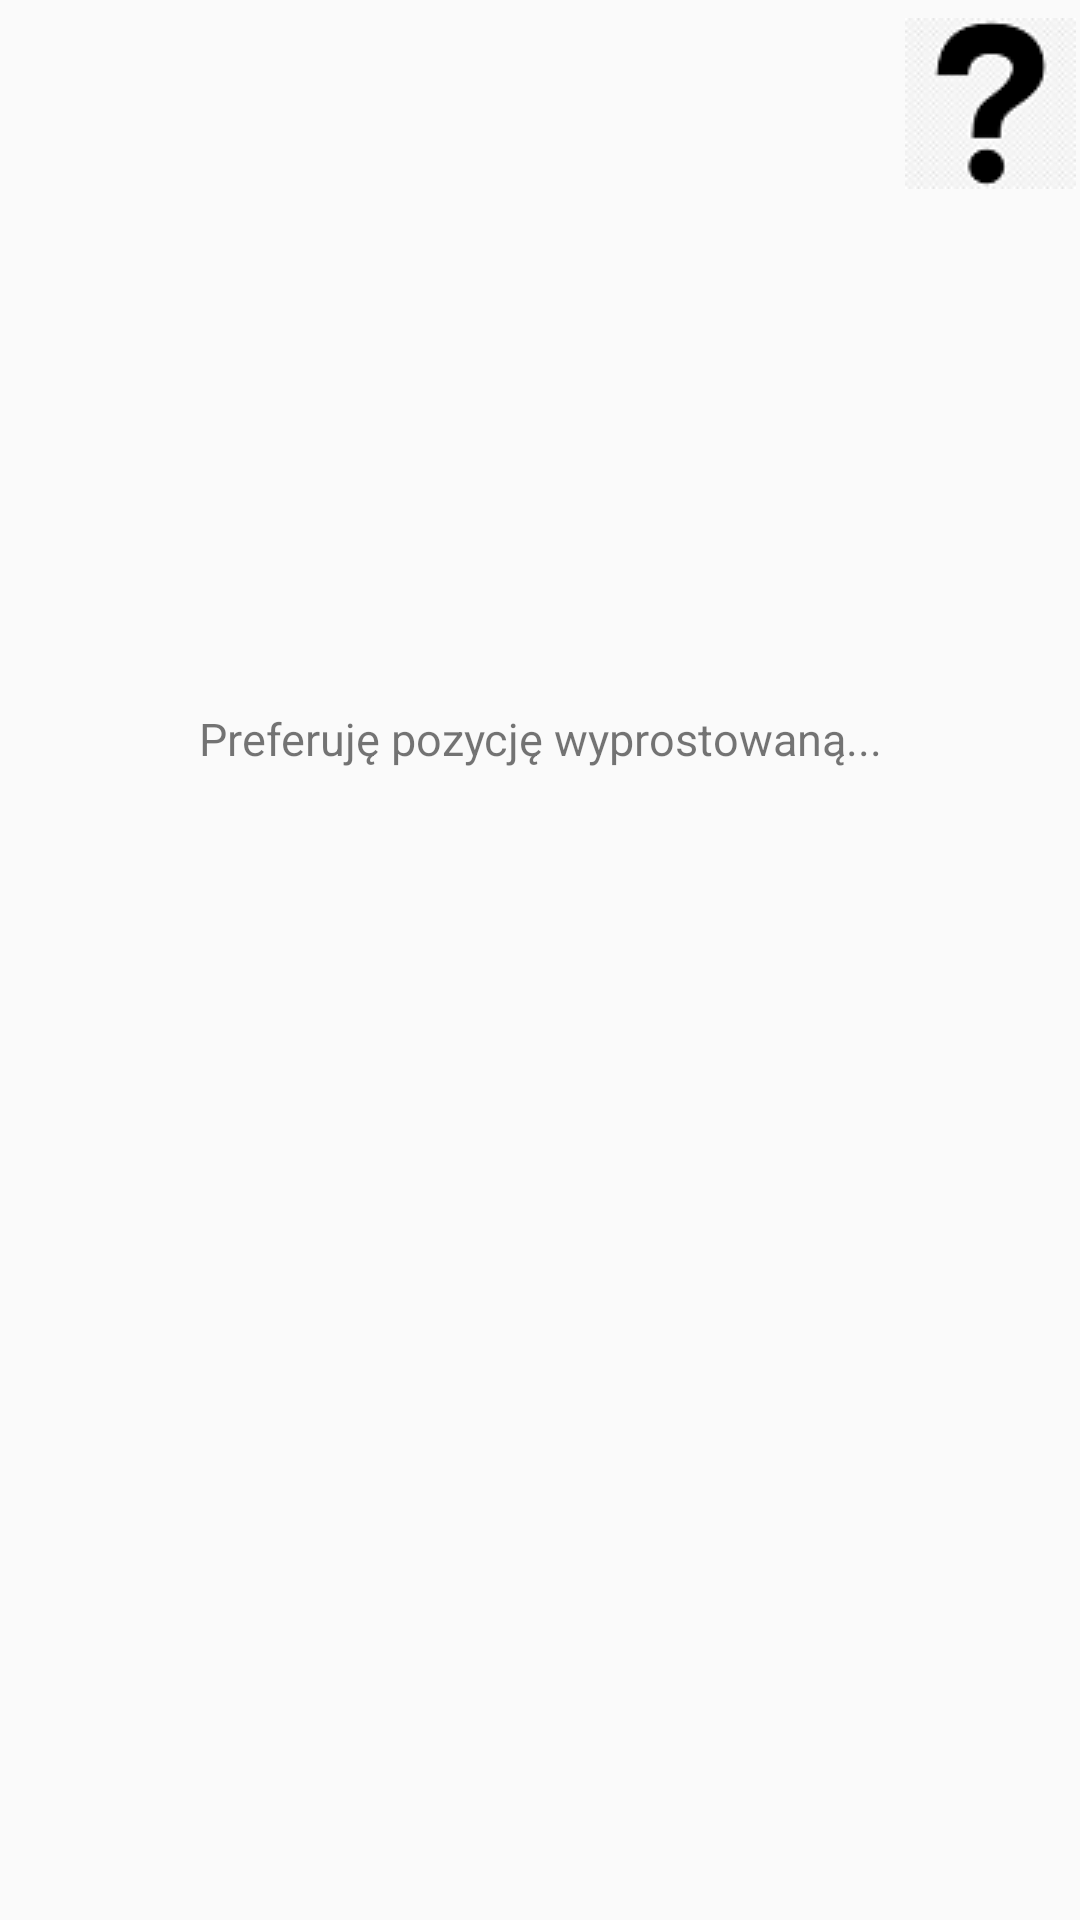

Screen size 1080 × 1920. Icon name, then its box in pixels as (x1, y1, x2, y2):
question mark: (934, 21, 1047, 186)
